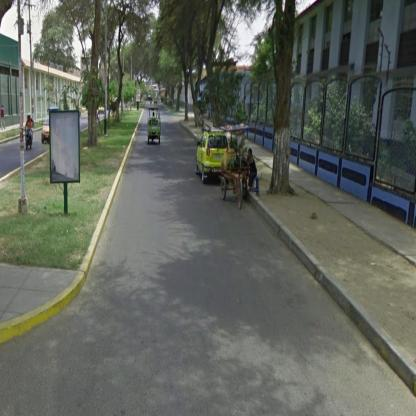Peaton: (248, 149, 258, 192)
Pista: (44, 213, 416, 416)
Vehiculo: (221, 124, 251, 210), (197, 132, 229, 183), (148, 106, 163, 146)
